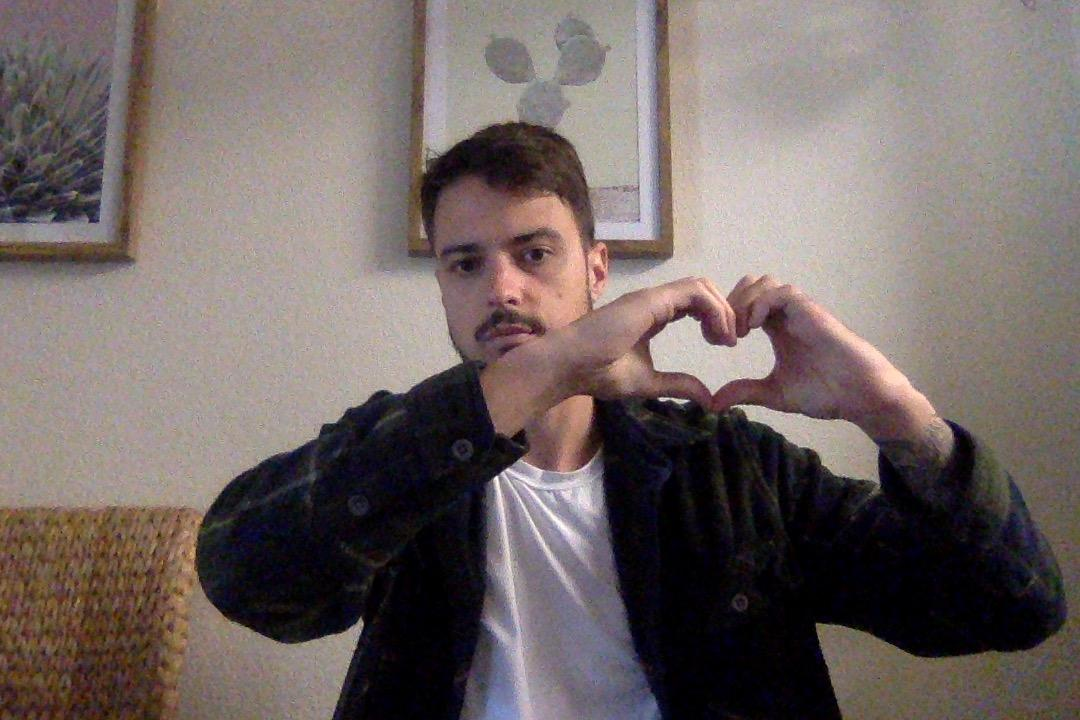Heart: (566, 274, 931, 431)
